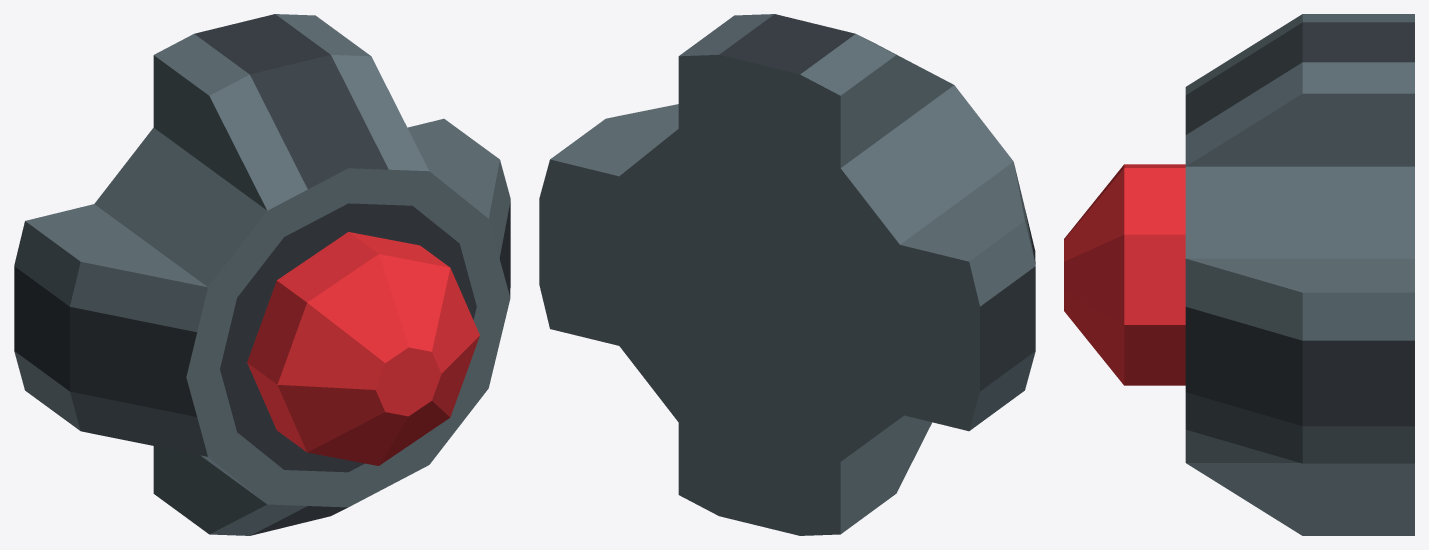
The model's file is fanStationCenter.FBX.
3 renders of one model, left to right at view 1: azimuth 30°, elevation 25°; view 2: azimuth 150°, elevation 25°; view 3: azimuth 270°, elevation 25°, orthographic.
Visible parts, largest first — view 1: fanStationCenter; view 2: fanStationCenter; view 3: fanStationCenter.
Boxes of the visible parts, box(x1,y1,x2,y2) form: fanStationCenter: box(14, 14, 510, 535); fanStationCenter: box(539, 14, 1035, 535); fanStationCenter: box(1064, 14, 1414, 535).
Bounding box in the file's own units: 5.87 × 5.87 × 4.01.
